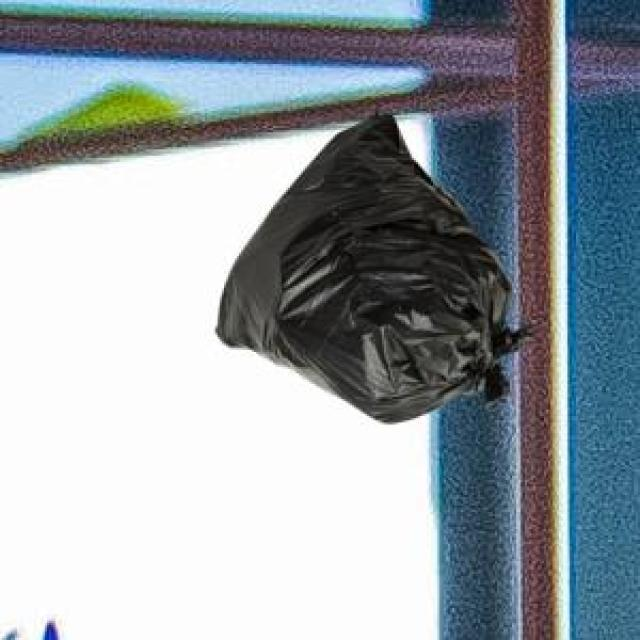waste: (216, 116, 520, 422)
